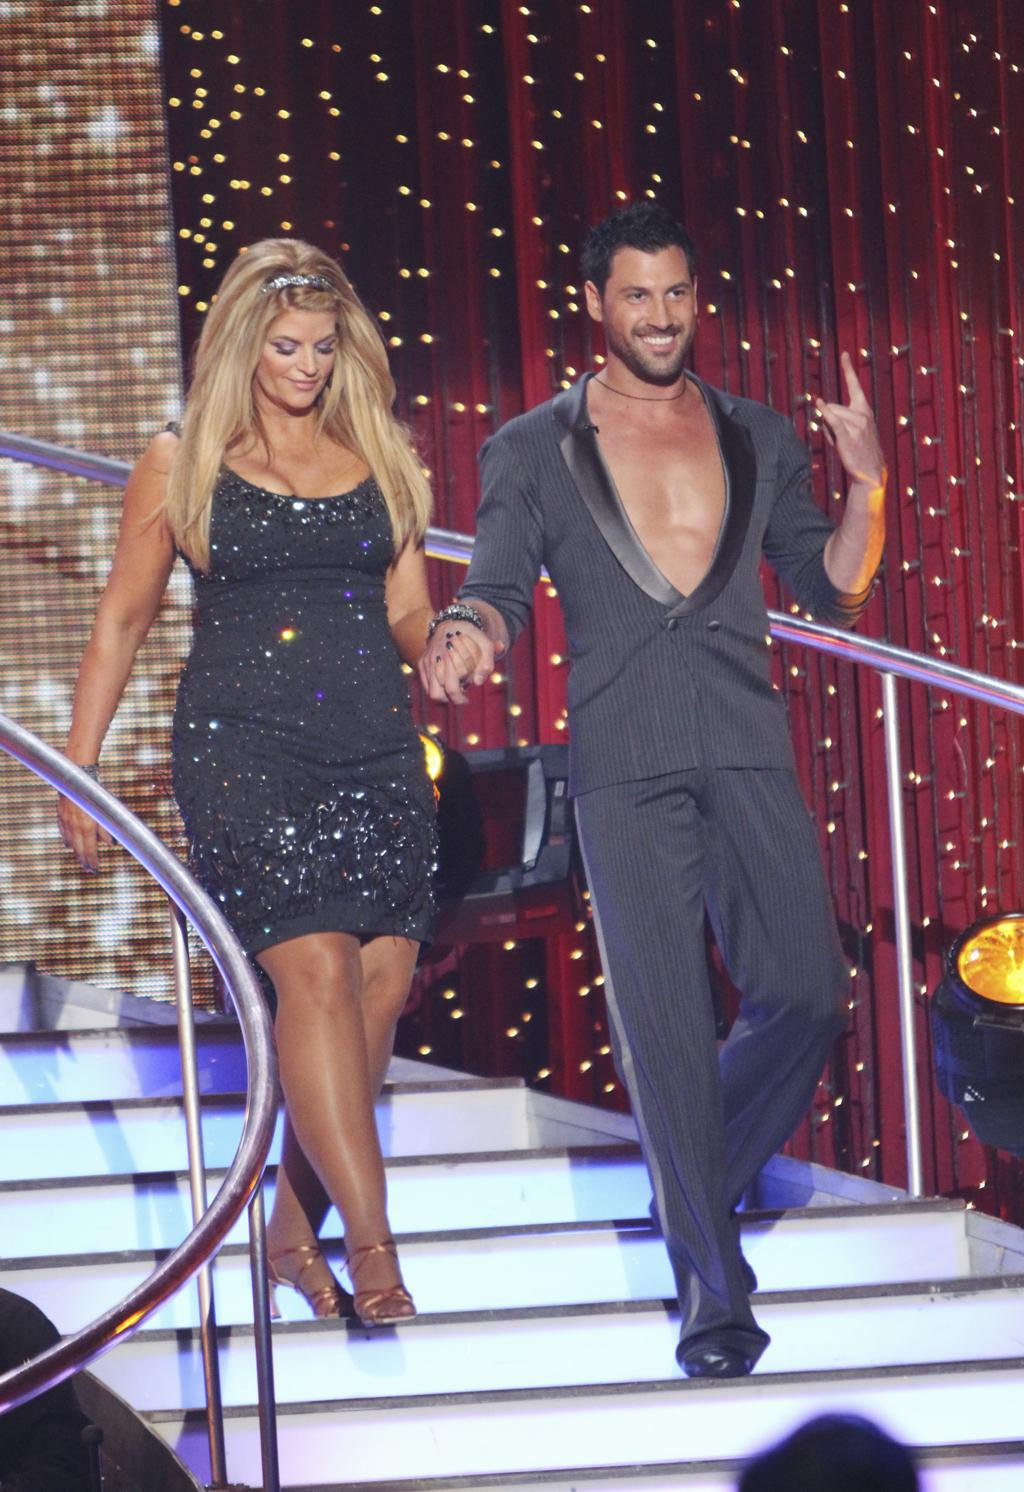face: (595, 248, 691, 388), (251, 300, 341, 417)
